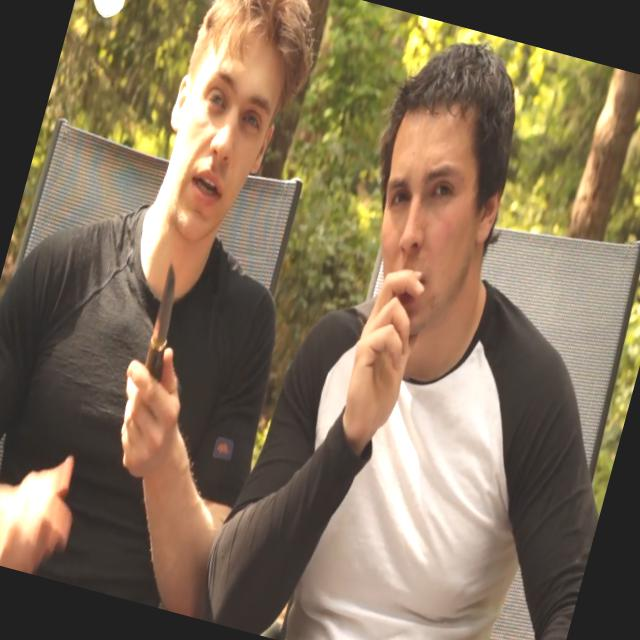knife: (96, 238, 223, 446)
